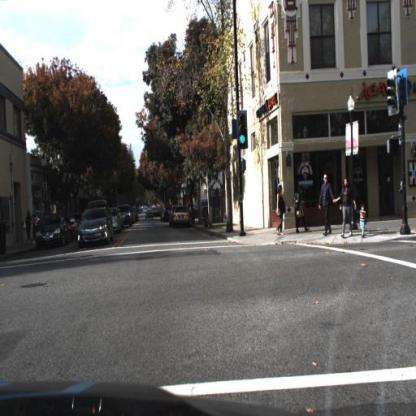car: (75, 207, 113, 252), (33, 215, 68, 252), (108, 205, 122, 241), (171, 204, 191, 229), (112, 207, 125, 235), (122, 203, 135, 230)
pedestrian: (337, 175, 358, 240), (318, 173, 336, 238), (340, 171, 356, 241), (274, 184, 289, 236), (294, 186, 309, 234), (274, 186, 288, 234), (295, 184, 307, 235), (355, 202, 369, 239), (24, 207, 35, 248), (33, 209, 40, 251), (25, 212, 33, 248), (32, 210, 42, 237)
trafficLight: (238, 113, 250, 154)
